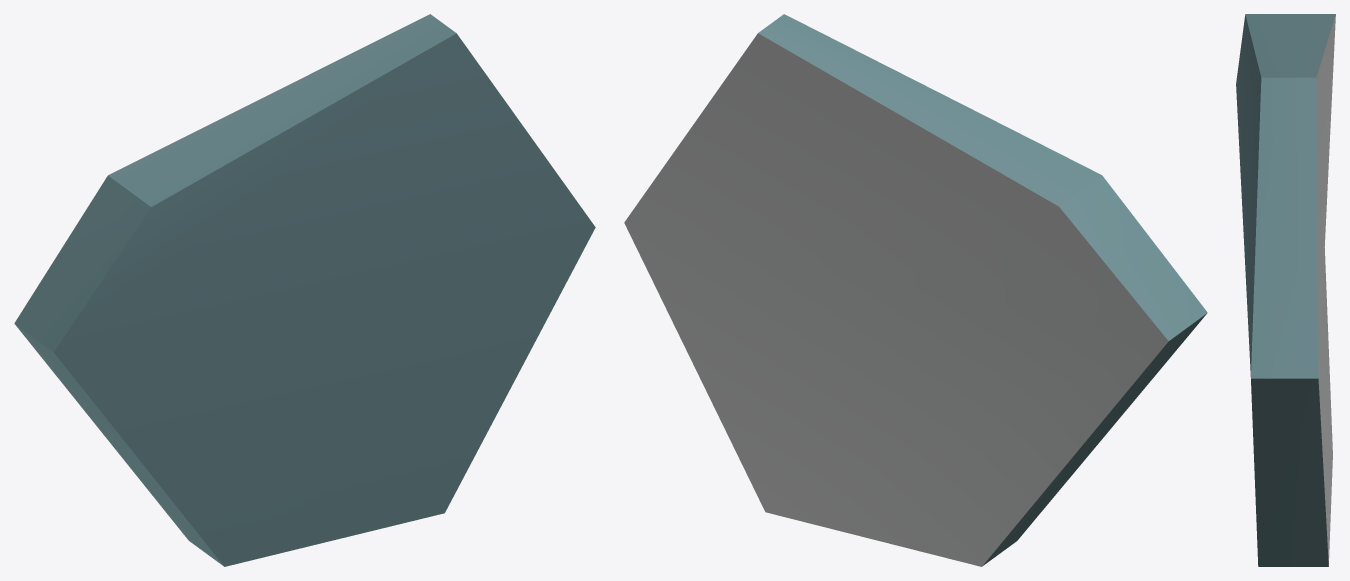
File: IceDrift.001.glb
3 renders of one model, left to right at view 1: azimuth 30°, elevation 25°; view 2: azimuth 150°, elevation 25°; view 3: azimuth 270°, elevation 25°, orthographic. The views are drawn at different scales.
Visible parts, largest first — view 1: IceDrift.001; view 2: IceDrift.001; view 3: IceDrift.001.
Part boxes in pixels (x1,y1,x2,y2): IceDrift.001: (14,14,595,566); IceDrift.001: (624,14,1207,566); IceDrift.001: (1236,14,1335,566).
Bounding box in the file's own units: 306 × 254 × 46.26.
